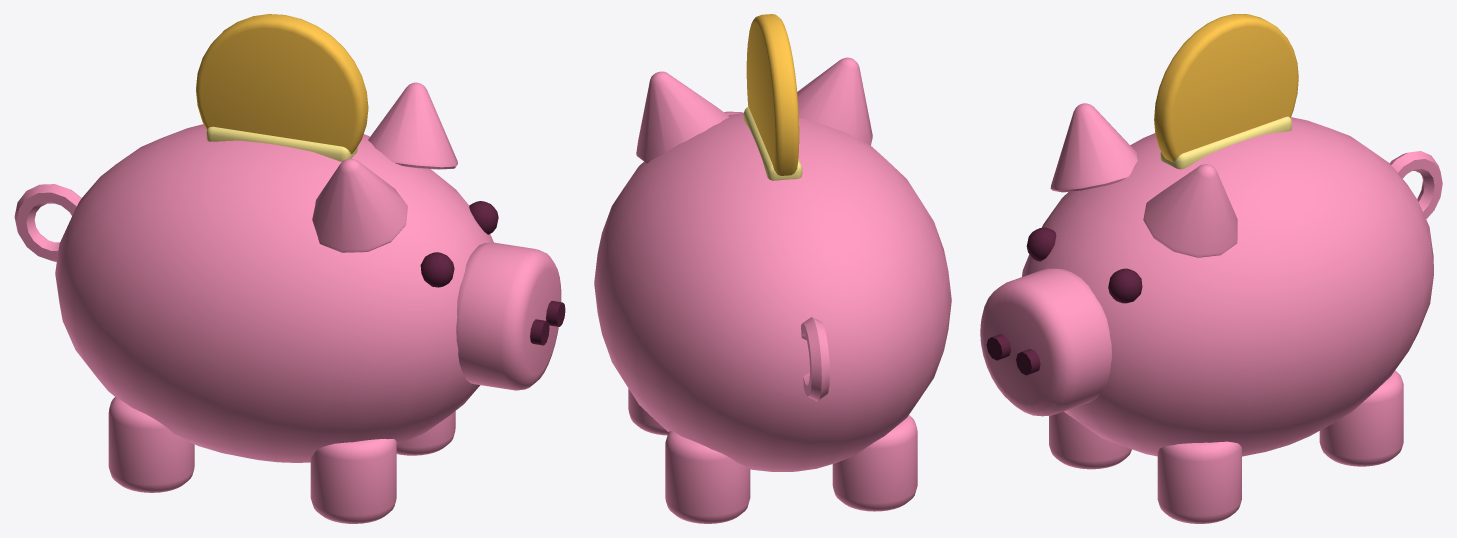
File: PiggyBank.fbx
3 renders of one model, left to right at view 1: azimuth 30°, elevation 25°; view 2: azimuth 150°, elevation 25°; view 3: azimuth 270°, elevation 25°, orthographic.
Parts seen in each view (by area): view 1: PiggyBank_Body, PiggyBank_Trim, PiggyBank_Eyes, PiggyBank_Neon; view 2: PiggyBank_Body, PiggyBank_Trim, PiggyBank_Neon; view 3: PiggyBank_Body, PiggyBank_Trim, PiggyBank_Eyes, PiggyBank_Neon.
Part boxes in pixels (<box>): PiggyBank_Body: <box>14,82,561,523</box>; PiggyBank_Trim: <box>196,14,368,153</box>; PiggyBank_Eyes: <box>420,201,565,345</box>; PiggyBank_Neon: <box>206,126,357,161</box>; PiggyBank_Body: <box>594,57,951,523</box>; PiggyBank_Trim: <box>746,14,799,175</box>; PiggyBank_Neon: <box>743,107,802,180</box>; PiggyBank_Body: <box>980,103,1442,523</box>; PiggyBank_Trim: <box>1154,14,1298,162</box>; PiggyBank_Eyes: <box>986,227,1142,375</box>; PiggyBank_Neon: <box>1160,116,1291,169</box>.
Size of the model in its own units: 2.62 by 3 by 2.89.
